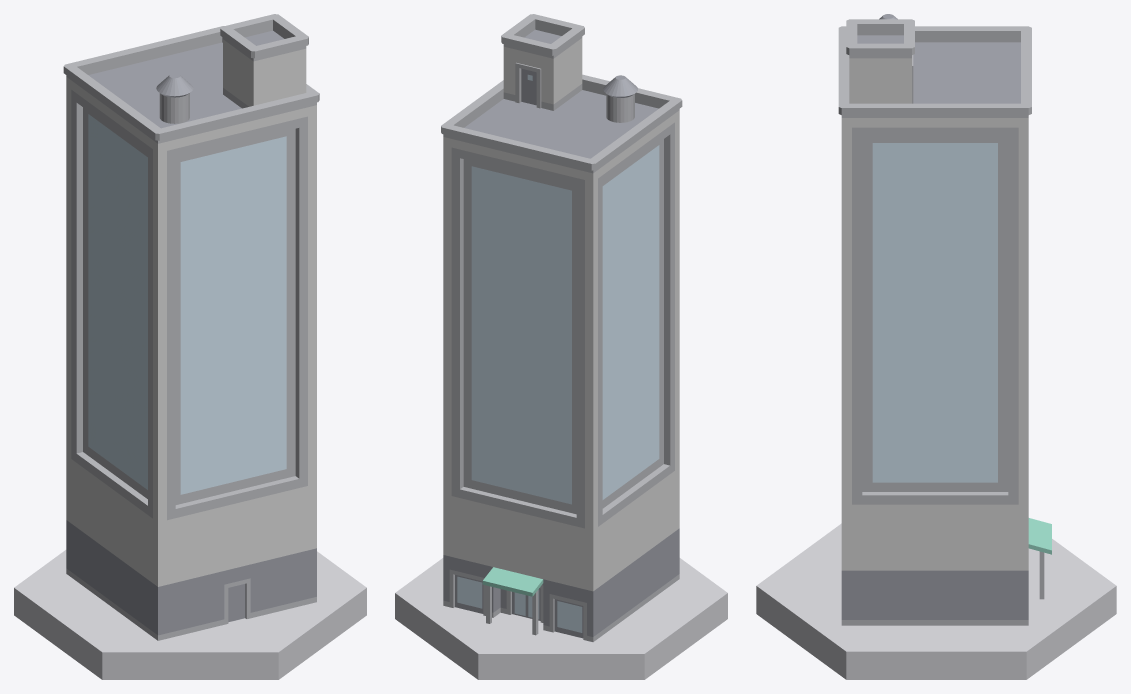
Rendered from skyscraper_4_low.fbx.
The picture shows the model from 3 angles, left to right: view 1: azimuth 30°, elevation 25°; view 2: azimuth 150°, elevation 25°; view 3: azimuth 270°, elevation 25°; orthographic projection. The views are drawn at different scales.
Visible parts, largest first — view 1: skyscraperC.001, pavement_low.006; view 2: skyscraperC.001, pavement_low.006; view 3: skyscraperC.001, pavement_low.006.
Boxes of the visible parts, box(x1,y1,x2,y2) form: skyscraperC.001: box(63, 14, 319, 640); pavement_low.006: box(14, 550, 366, 679); skyscraperC.001: box(441, 14, 682, 641); pavement_low.006: box(395, 558, 727, 679); skyscraperC.001: box(838, 14, 1051, 625); pavement_low.006: box(756, 523, 1116, 679).
Bounding box in the file's own units: 100 × 213 × 115.
